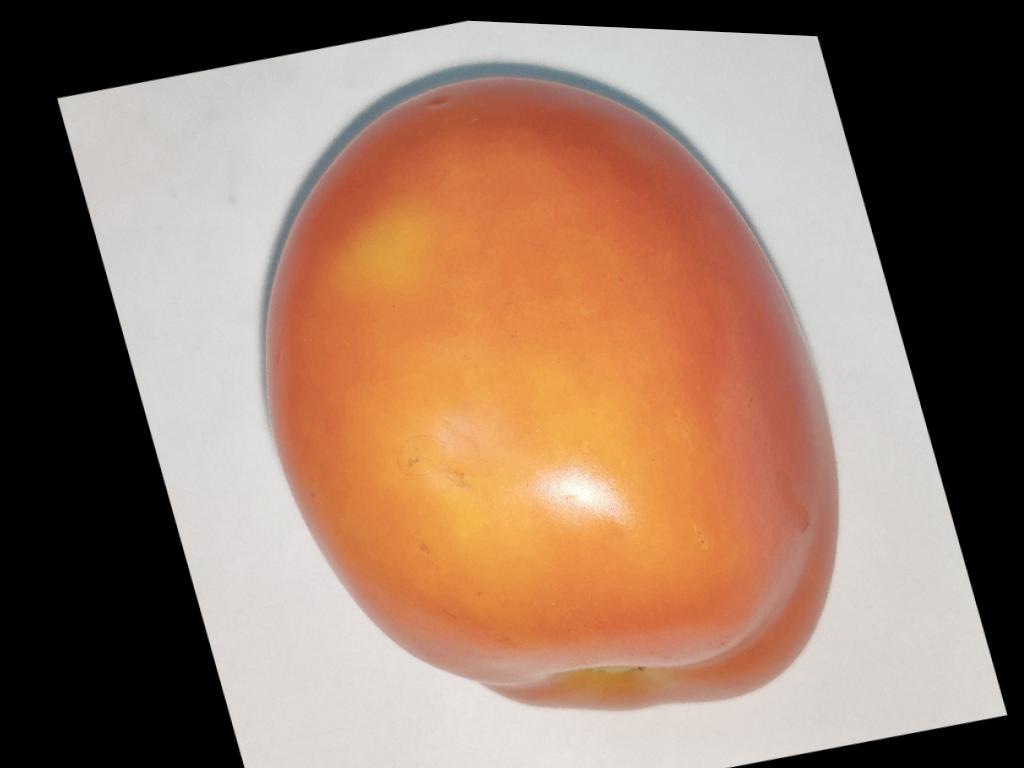tomato: (266, 78, 836, 709)
